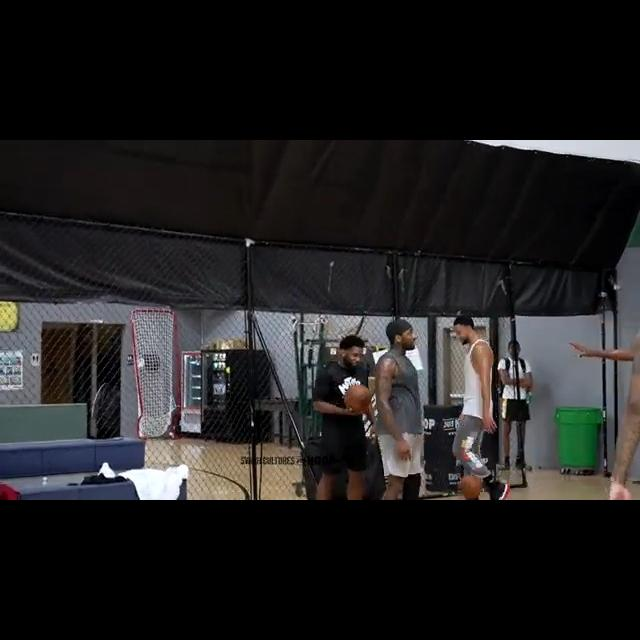basketball: (344, 384, 371, 413), (459, 475, 483, 498)
